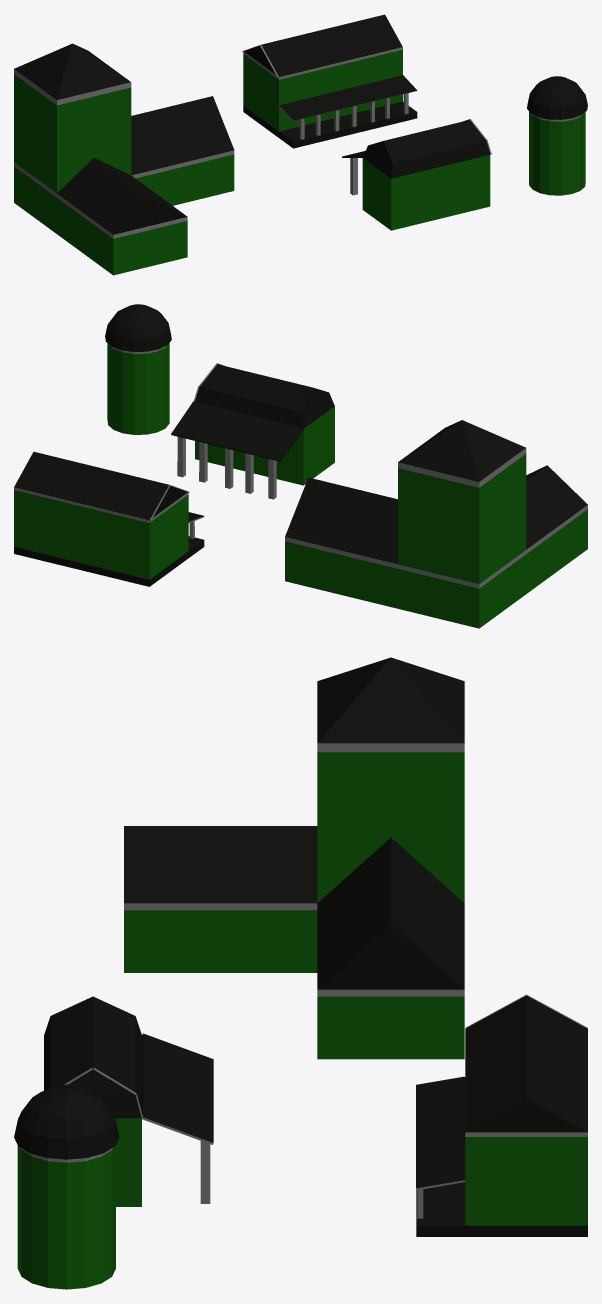
Rendered from LowPoly Farm.fbx.
3 renders of one model, top to bottom at view 1: azimuth 30°, elevation 25°; view 2: azimuth 150°, elevation 25°; view 3: azimuth 270°, elevation 25°, orthographic. The views are drawn at different scales.
Visible parts, largest first — view 1: Church, House, Barn, Silo; view 2: Church, House, Barn, Silo; view 3: Church, House, Silo, Barn.
Boxes of the visible parts, x1,y1,x2,y2 form: Church: (14, 43, 234, 275); House: (242, 14, 417, 148); Barn: (342, 119, 491, 230); Silo: (527, 76, 587, 195); Church: (285, 420, 587, 628); House: (14, 451, 204, 586); Barn: (171, 363, 334, 499); Silo: (105, 304, 171, 434); Church: (124, 657, 464, 1059); House: (416, 994, 587, 1236); Silo: (14, 1084, 119, 1289); Barn: (44, 996, 213, 1206).
Size of what is drawn, in the model's own units: 3667 by 1282 by 2341.
